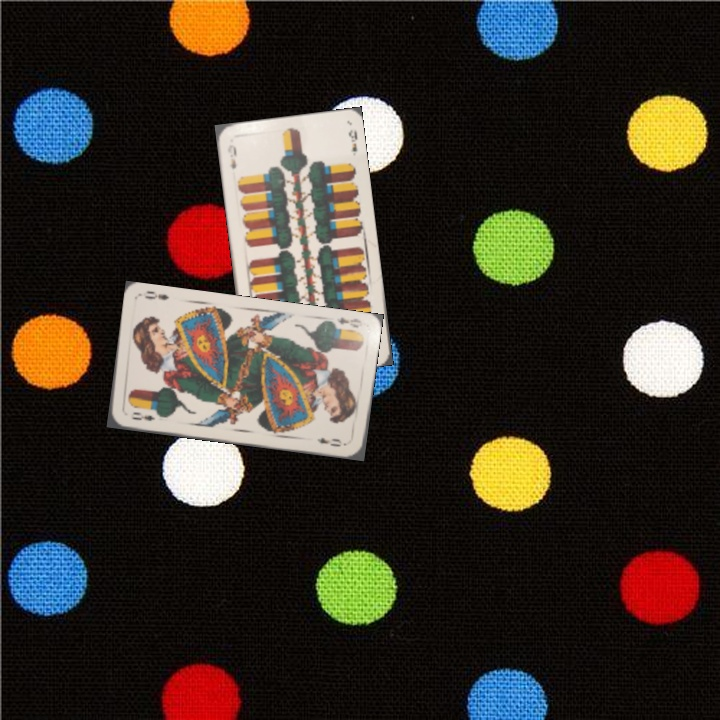E9: (223, 141, 239, 171)
EO: (333, 313, 365, 330), (127, 408, 157, 424)
